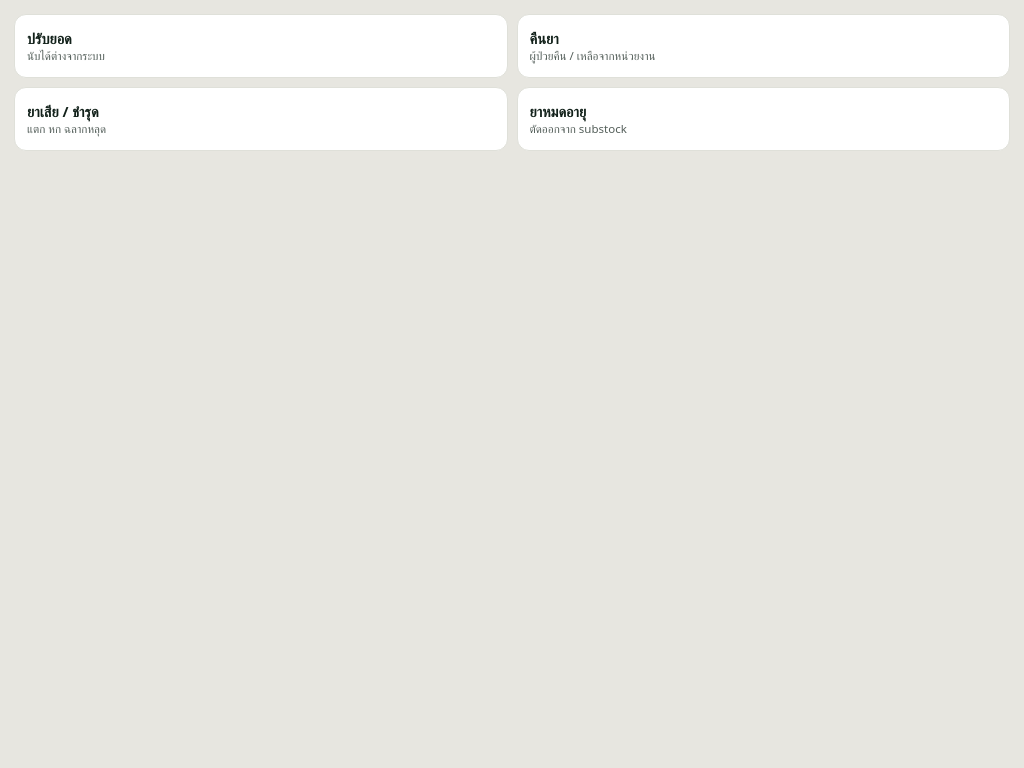
Test case: AdjustScreen — คืนยา reason chips regression › shows the 7 new clinical return reasons, not the old generic 3-chip list
Click the button "คืนยา ผู้ป่วยคืน / เหลือจากหน่วยงาน" at coordinates (592, 56), box [516,14,1010,78]
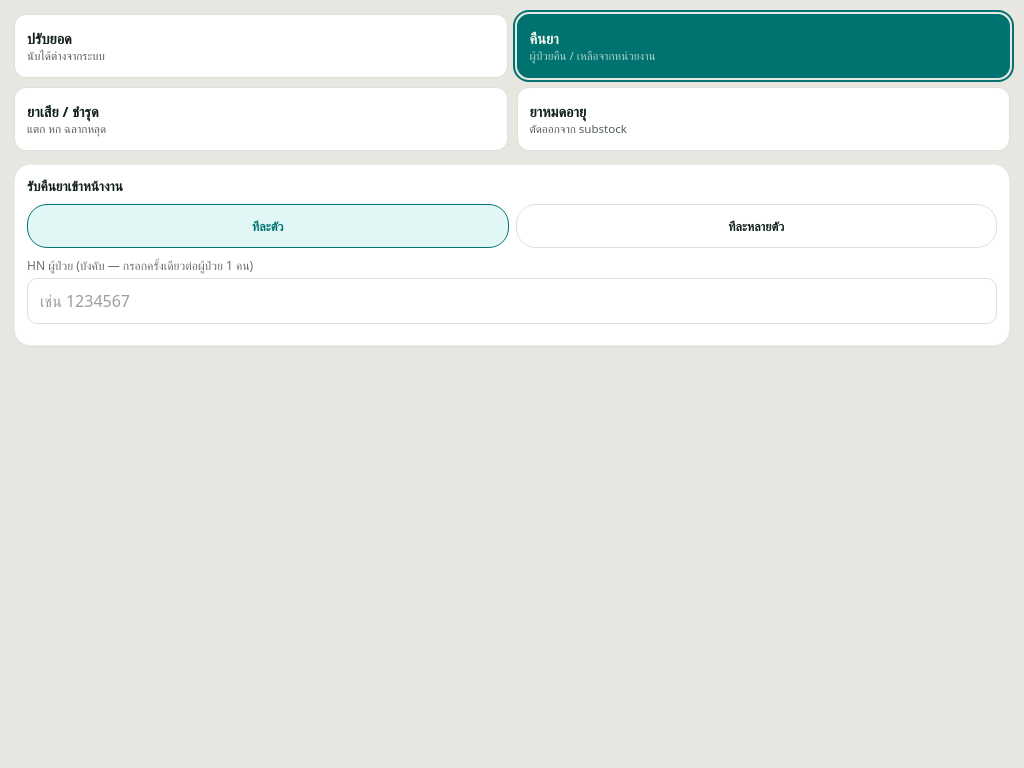
Type "0010643" into the field with placeholder "เช่น 1234567" at coordinates (512, 301), box [27,278,997,324]
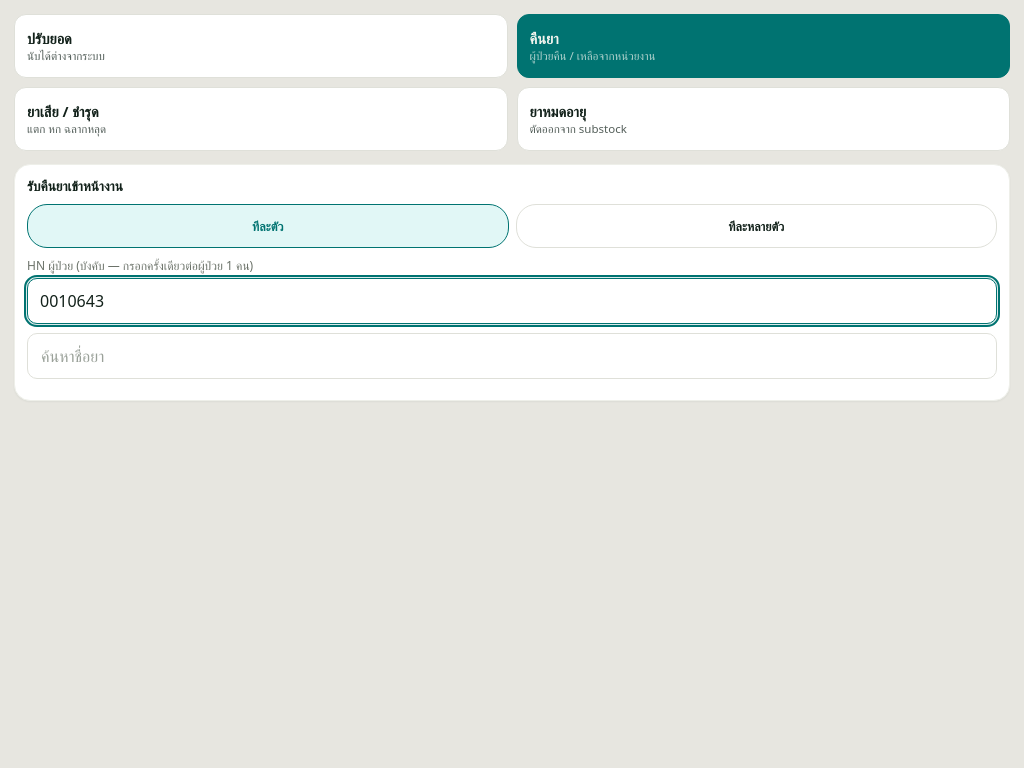
Type "Paracetamol" into the field with placeholder "ค้นหาชื่อยา" at coordinates (512, 356), box [27,333,997,379]
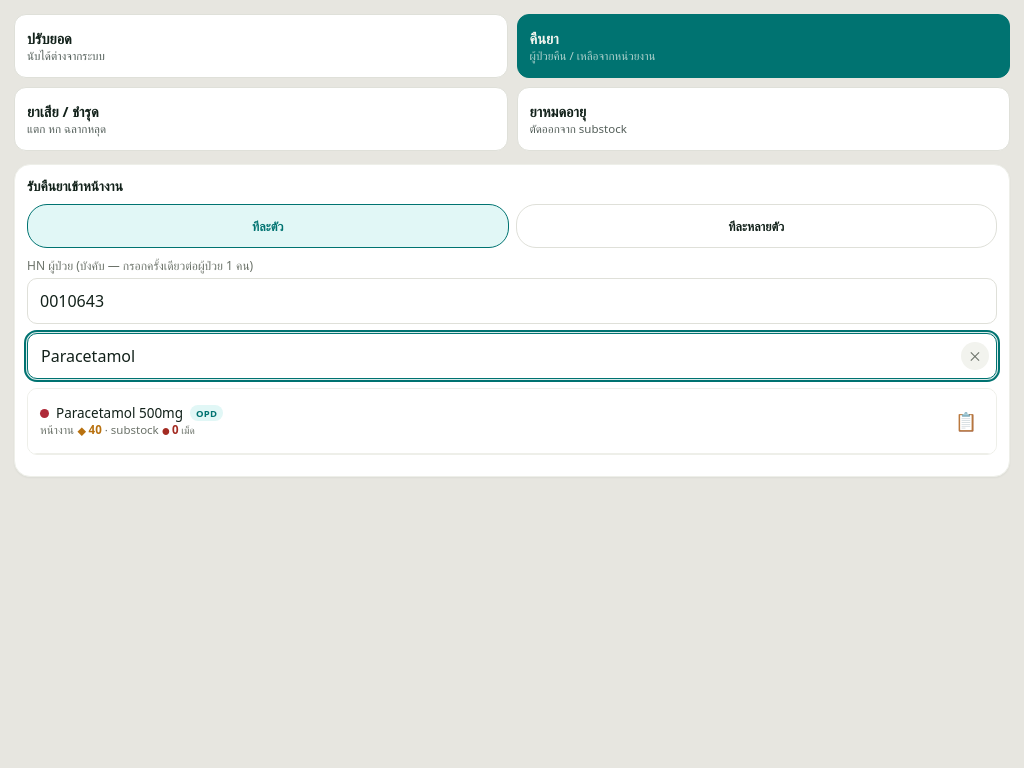
Click the text "Paracetamol 500mg" at coordinates (132, 413), box [40,404,223,422]
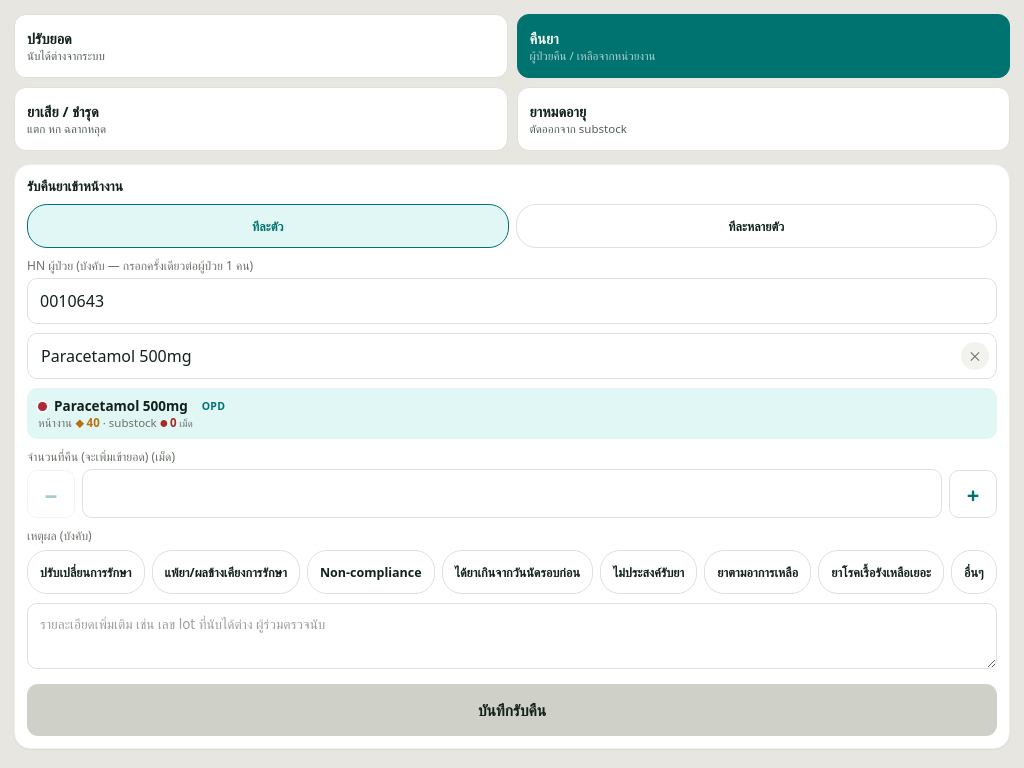
Check: the button "ปรับเปลี่ยนการรักษา" is shown, box [27,550,144,594]
Check: the button "แพ้ยา/ผลข้างเคียงการรักษา" is shown, box [152,550,300,594]
Check: the button "Non-compliance" is shown, box [307,550,435,594]
